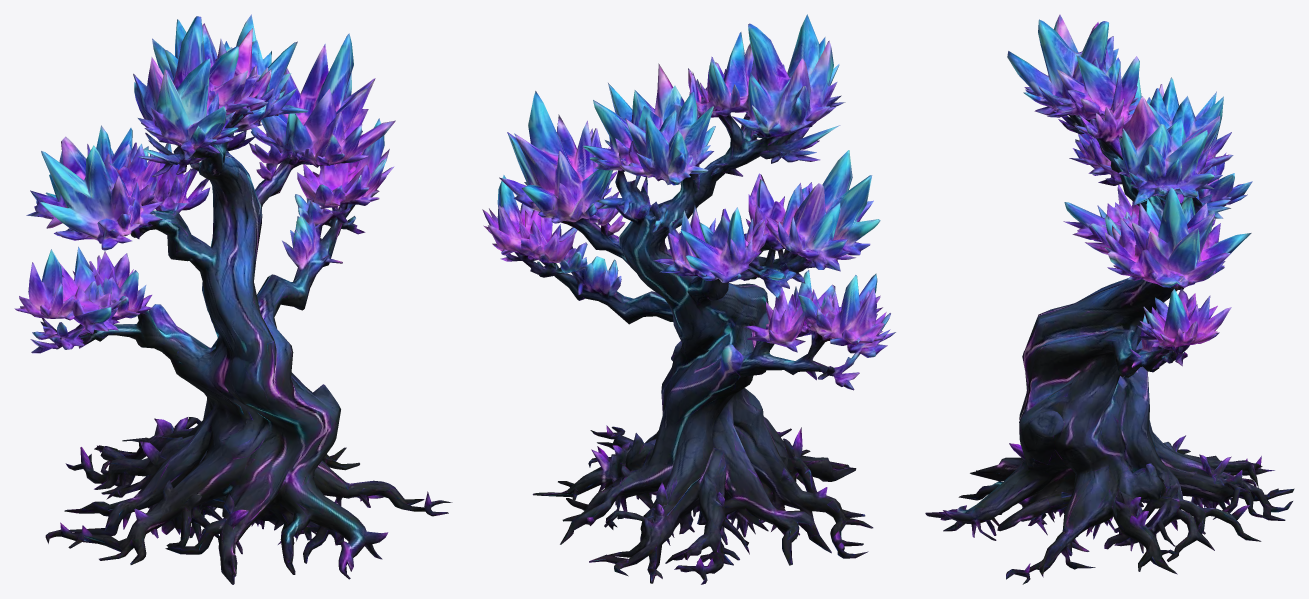
The model's file is crystal-tree.glb.
The picture shows the model from 3 angles, left to right: view 1: azimuth 30°, elevation 25°; view 2: azimuth 150°, elevation 25°; view 3: azimuth 270°, elevation 25°; orthographic projection. The views are drawn at different scales.
Parts seen in each view (by area): view 1: Mesh_0; view 2: Mesh_0; view 3: Mesh_0.
Part boxes in pixels (box(x1,y1,x2,y2)): Mesh_0: box(14, 14, 452, 584); Mesh_0: box(482, 14, 895, 584); Mesh_0: box(925, 14, 1294, 584).
Size of the model in its own units: 1.55 by 1.91 by 1.36.
1 material, 1 textured.
